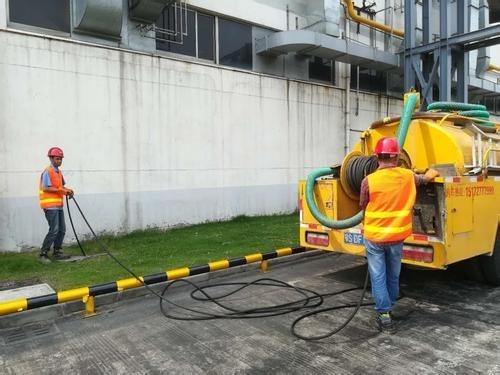helmet: (374, 136, 403, 155), (47, 145, 65, 157)
wear: (362, 166, 416, 246), (41, 168, 71, 213)
